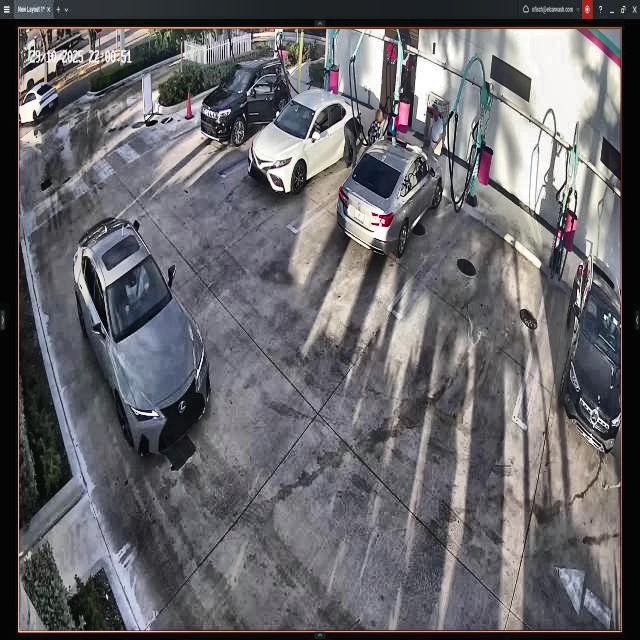Car: (76, 218, 211, 460), (338, 140, 442, 255), (252, 88, 364, 192), (201, 58, 292, 146)
